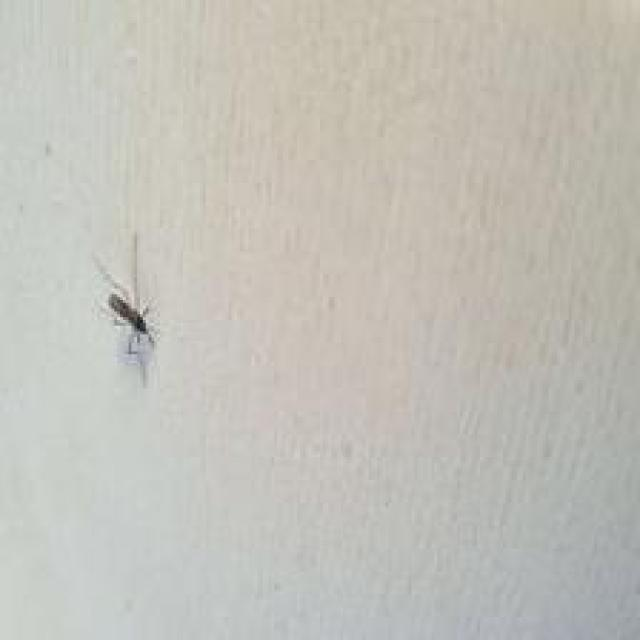Aedes albopictus: (91, 230, 160, 387)
